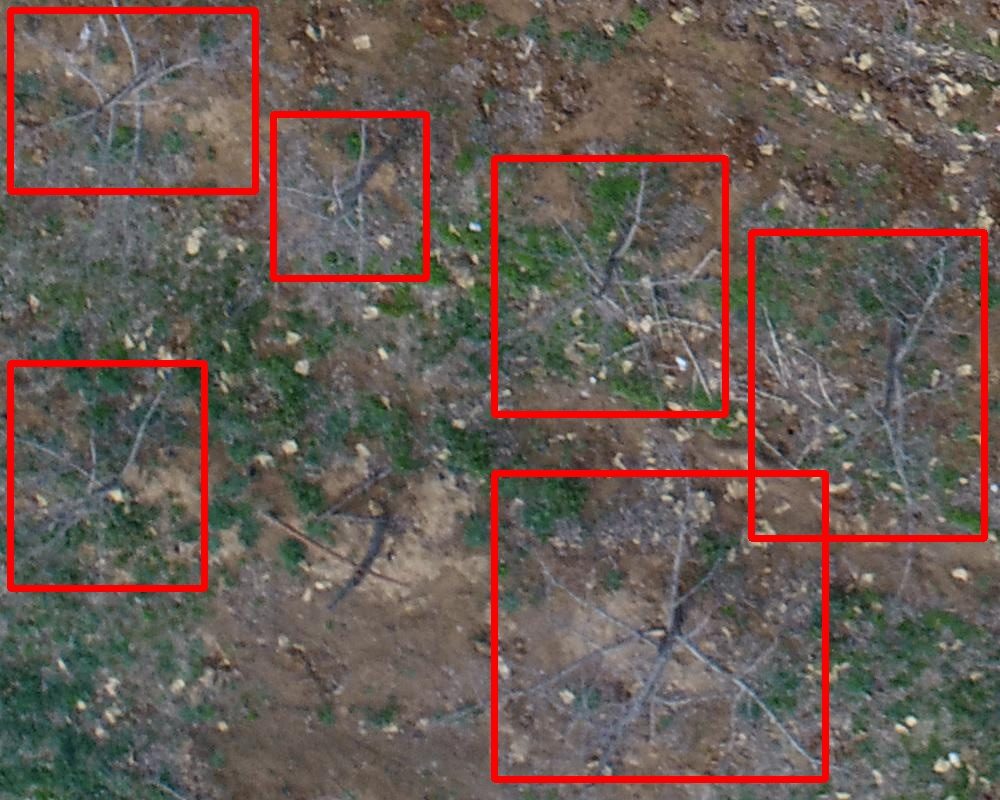apple: (494, 473, 825, 779), (751, 232, 984, 538), (494, 158, 725, 414), (10, 10, 255, 191), (10, 363, 204, 588), (273, 114, 426, 278)
